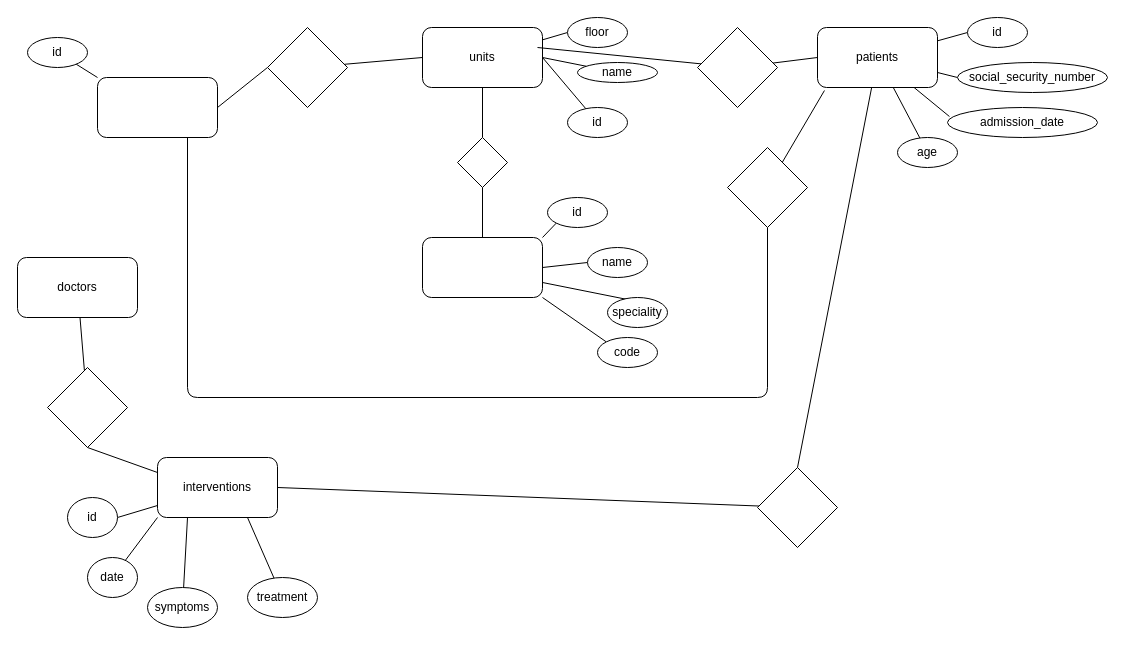
The diagram is 1125 pixels wide and 645 high, and some of its shapes have lost their labels. Each missing label, with the box of its shape:
admitted to: (696, 26, 778, 108)
arrive: (726, 146, 808, 228)
consists of: (266, 26, 348, 108)
doctor_in_charge: (422, 236, 542, 298)
get: (756, 466, 838, 548)
has: (456, 136, 508, 188)
hospital: (96, 76, 218, 138)
realized by: (46, 366, 128, 448)
